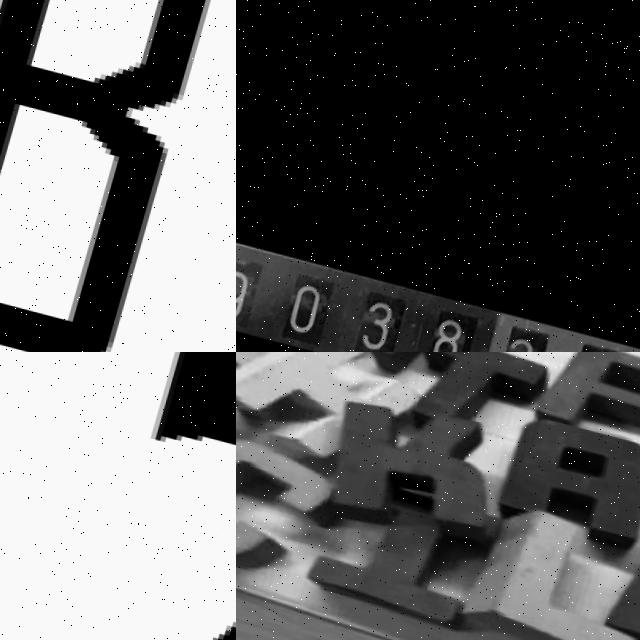0: (286, 271, 334, 331)
2: (20, 352, 236, 640), (573, 336, 616, 352)
3: (357, 288, 406, 349), (501, 319, 548, 352)
8: (427, 300, 477, 352)
9: (236, 258, 262, 319)
A: (497, 401, 640, 541)
C: (236, 416, 363, 582)
H: (236, 352, 446, 477)
K: (321, 386, 526, 536)
L: (462, 485, 640, 640)
P: (547, 352, 640, 445)
T: (412, 352, 558, 438)
